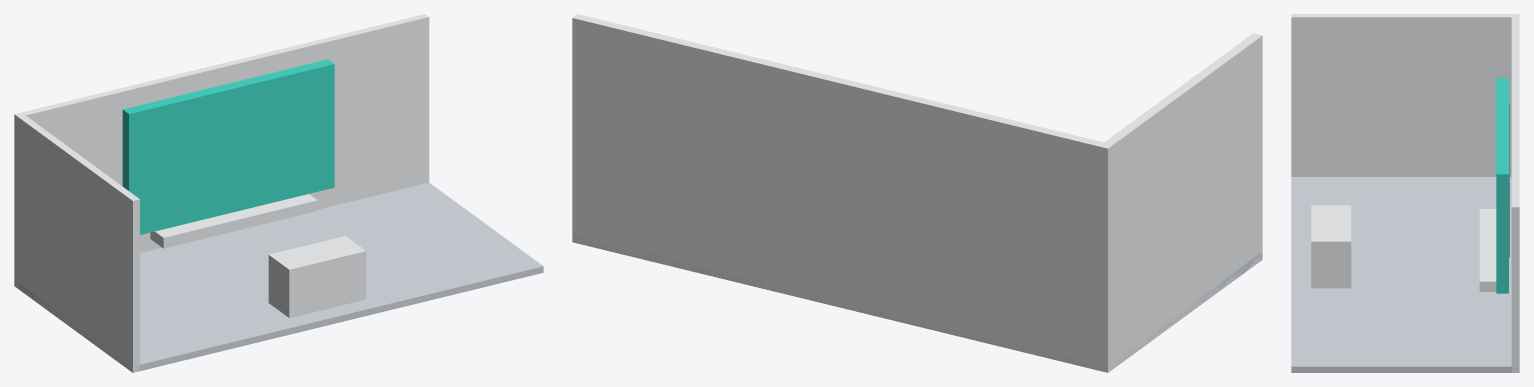
3 views of the same model, side by side, from view 1: azimuth 30°, elevation 25°; view 2: azimuth 150°, elevation 25°; view 3: azimuth 270°, elevation 25° (orthographic). The views are drawn at different scales.
Parts seen in each view (by area): view 1: Exhibition Booth Concept; view 2: Exhibition Booth Concept; view 3: Exhibition Booth Concept.
Boxes of the visible parts, bbox=[...] form: Exhibition Booth Concept: bbox=[14, 14, 543, 372]; Exhibition Booth Concept: bbox=[572, 14, 1262, 372]; Exhibition Booth Concept: bbox=[1291, 14, 1519, 372].
Size of the model in its own units: 8 by 3.2 by 4.
